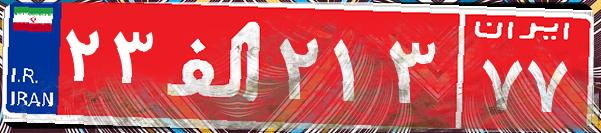1: (330, 28, 385, 110)
2: (273, 28, 330, 110), (57, 26, 110, 107)
3: (385, 28, 445, 110), (110, 28, 158, 105)
7: (475, 38, 525, 113), (525, 38, 570, 115)
الف: (158, 15, 273, 115)
